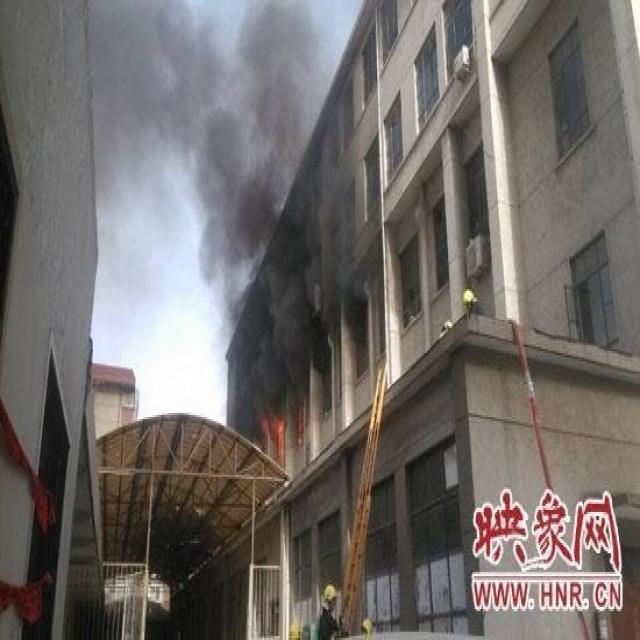Fire: (274, 421, 286, 469)
Smoke: (91, 2, 372, 454)
